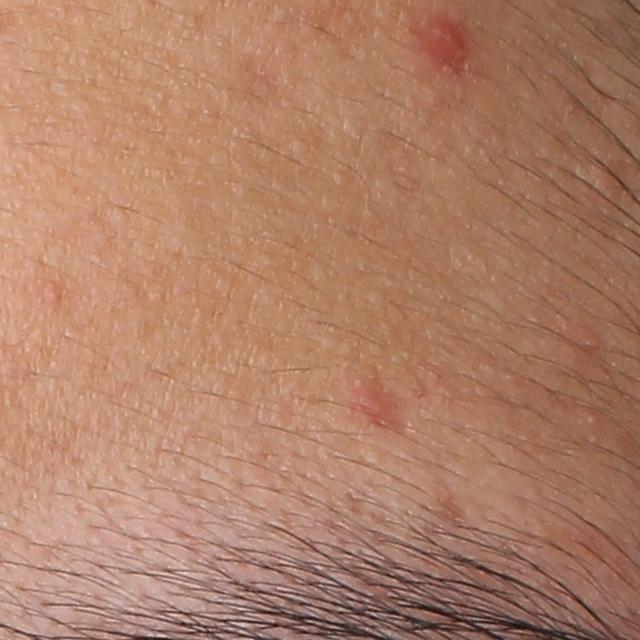comedo: (580, 406, 602, 430)
papule: (424, 11, 469, 61)
